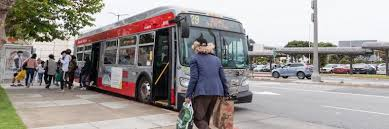bus: (73, 5, 253, 111)
